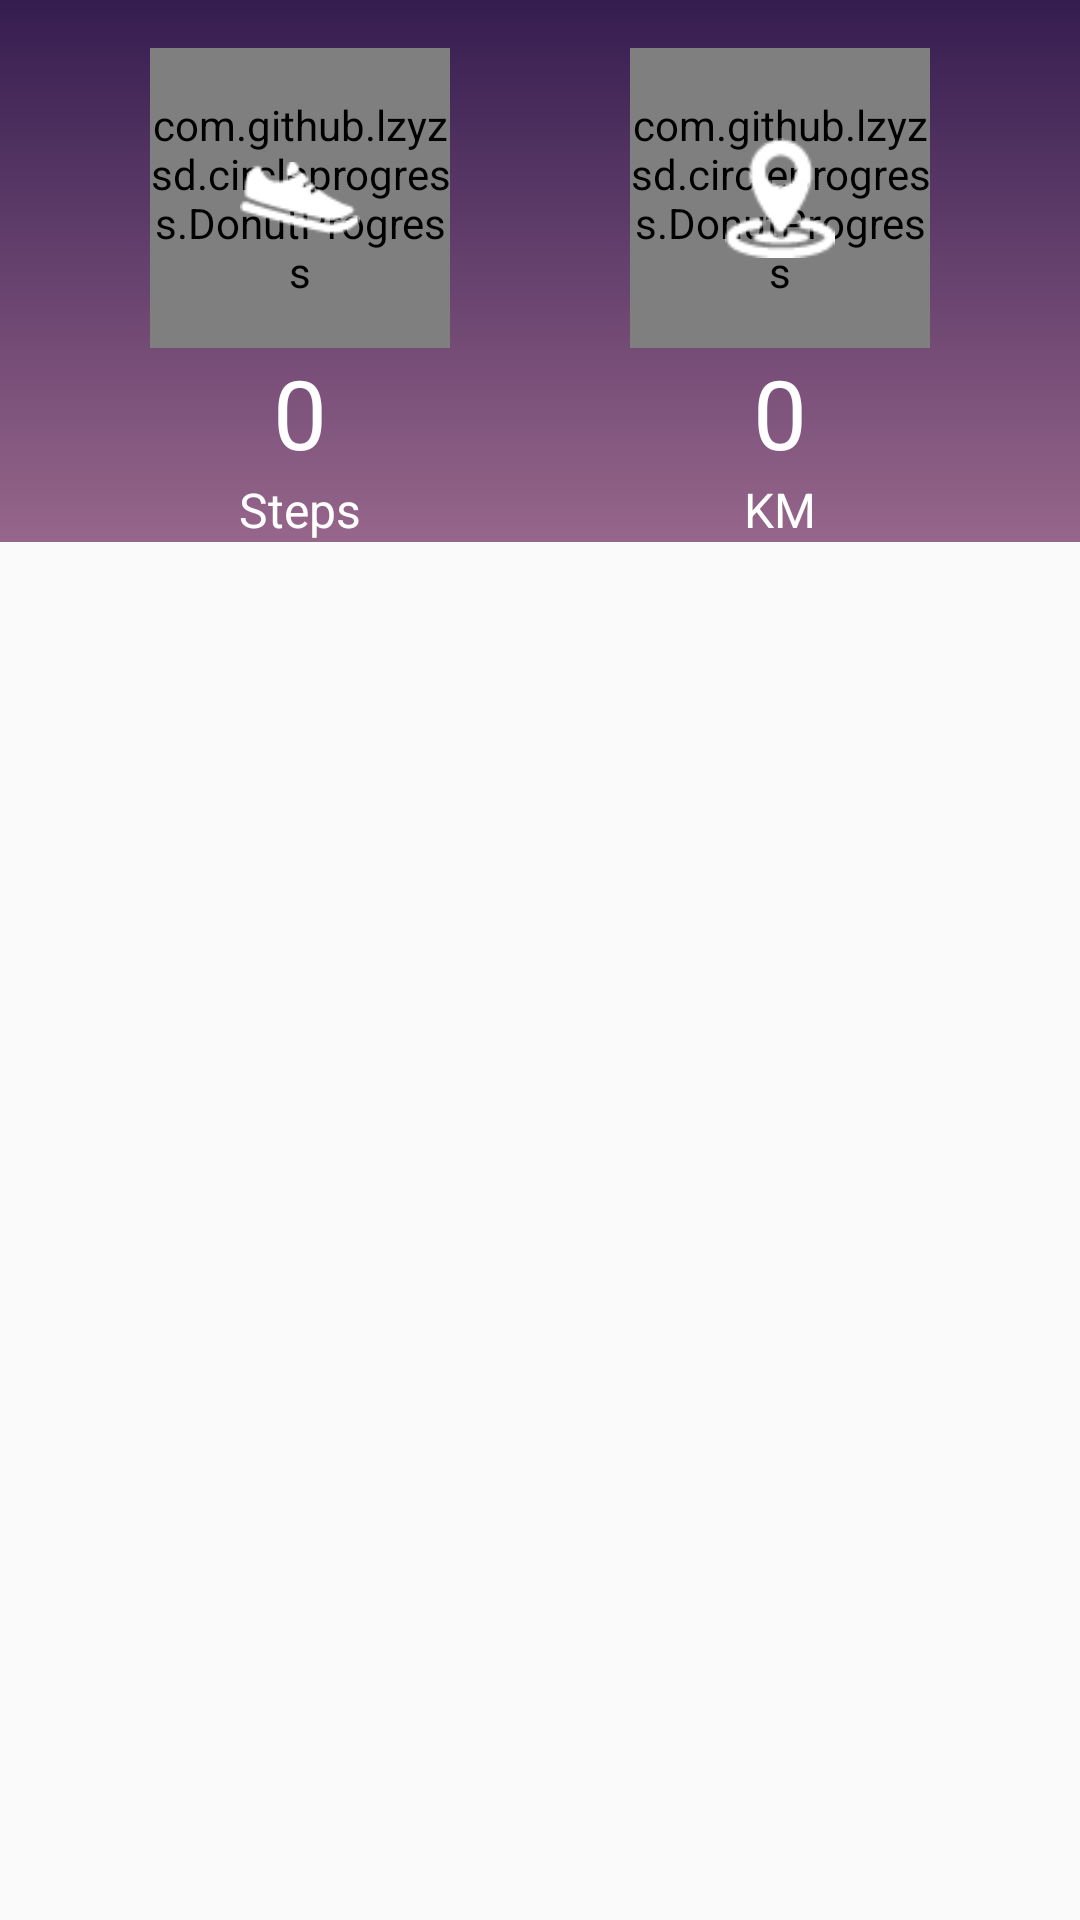

Icon bounding boxes for this 1080 × 1920 phone screenshot, format detection(x1, y1, x2, y2):
location: detection(720, 138, 840, 258)
shoes: detection(240, 138, 360, 240)
